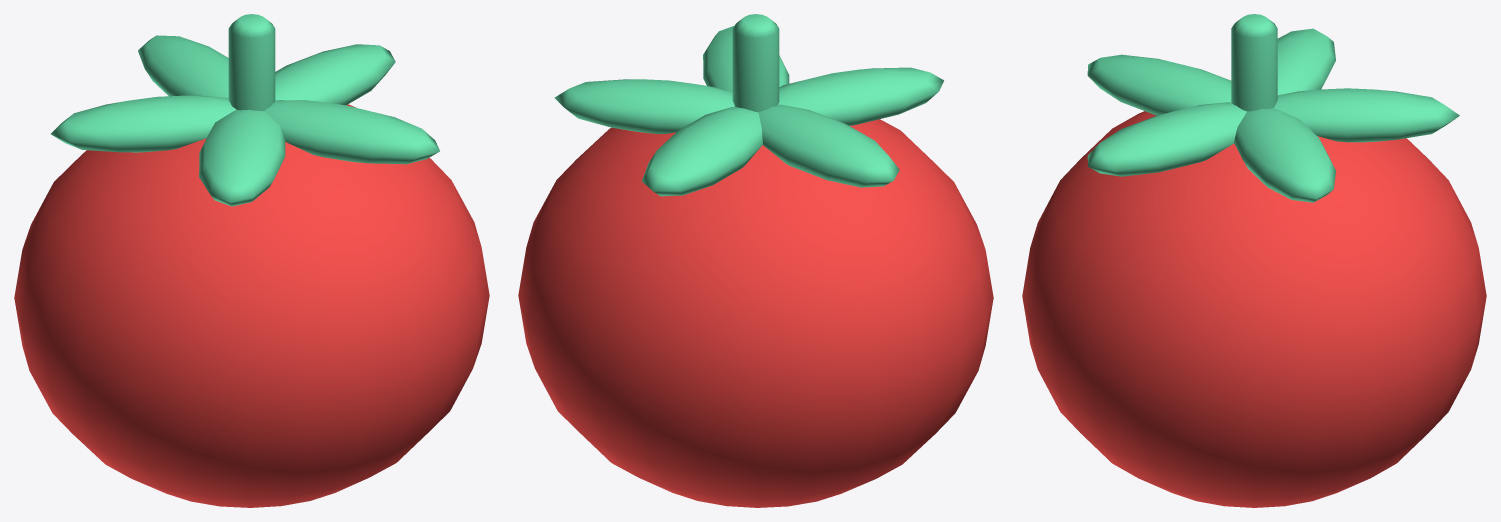
The model's file is tomato.fbx.
3 renders of one model, left to right at view 1: azimuth 30°, elevation 25°; view 2: azimuth 150°, elevation 25°; view 3: azimuth 270°, elevation 25°, orthographic.
Visible parts, largest first — view 1: tomato; view 2: tomato; view 3: tomato.
Part boxes in pixels (x1,y1,x2,y2): tomato: (14, 14, 489, 507); tomato: (518, 14, 993, 507); tomato: (1022, 14, 1486, 507).
Size of the model in its own units: 93.51 by 100 by 90.91.
1 material, 1 textured.
